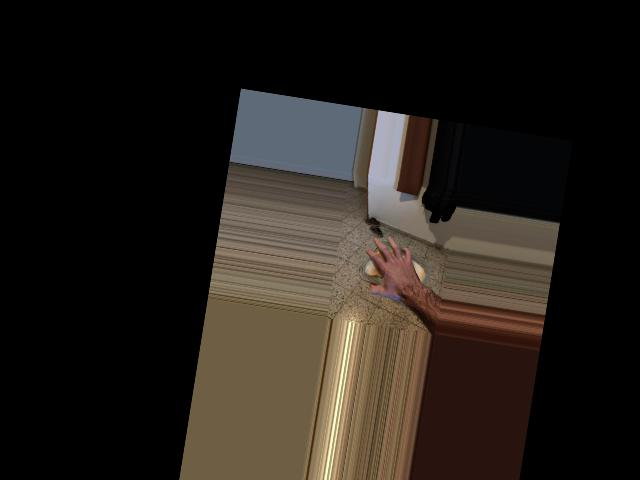cheese: (357, 234, 431, 308)
